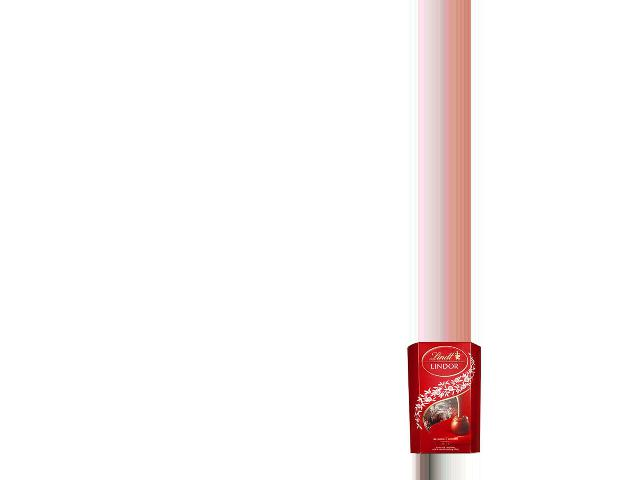chocolate: (405, 342, 486, 454)
